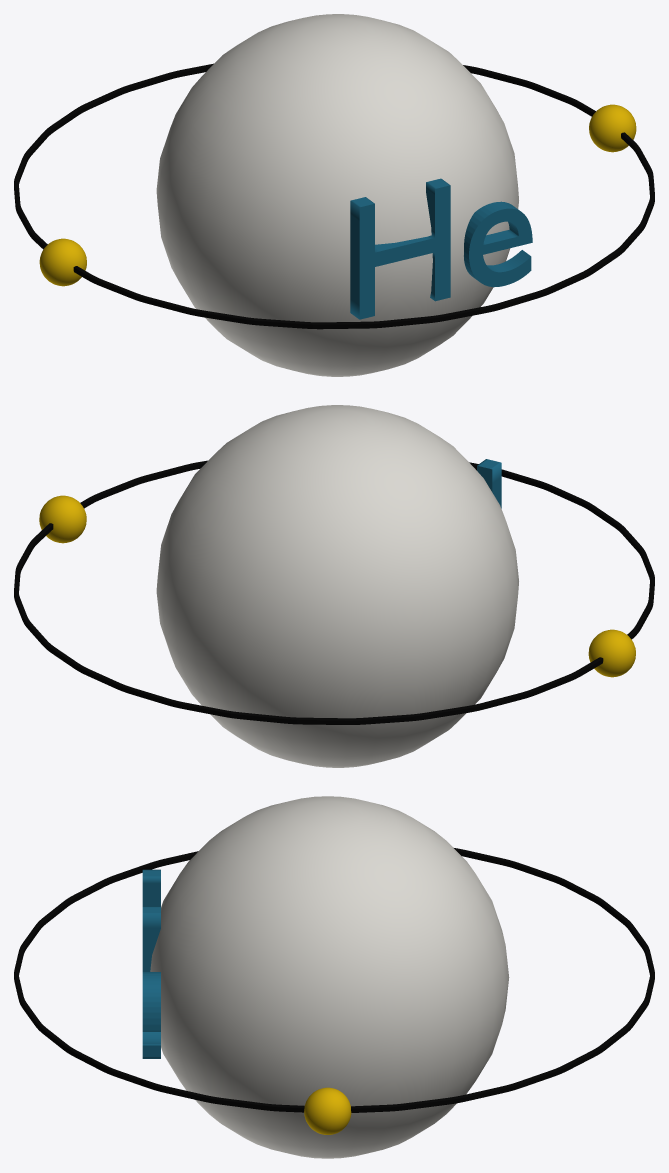
3 renders of one model, top to bottom at view 1: azimuth 30°, elevation 25°; view 2: azimuth 150°, elevation 25°; view 3: azimuth 270°, elevation 25°, orthographic.
Visible parts, largest first — view 1: Sphere, Text, Circle, Sphere.004, Sphere.001; view 2: Sphere, Circle, Sphere.001, Sphere.004, Text; view 3: Sphere, Circle, Text, Sphere.001.
Part boxes in pixels (<box>): Sphere: <box>156,14,518,376</box>; Text: <box>350,178,532,319</box>; Circle: <box>14,63,654,329</box>; Sphere.004: <box>39,238,86,286</box>; Sphere.001: <box>589,104,636,152</box>; Sphere: <box>156,405,518,767</box>; Circle: <box>14,460,654,724</box>; Sphere.001: <box>39,495,86,543</box>; Sphere.004: <box>588,629,635,677</box>; Text: <box>477,459,501,508</box>; Sphere: <box>150,796,509,1158</box>; Circle: <box>14,848,654,1112</box>; Text: <box>142,869,160,1058</box>; Sphere.001: <box>304,1087,351,1134</box>.
Bounding box in the file's own units: 375 × 200 × 353.
